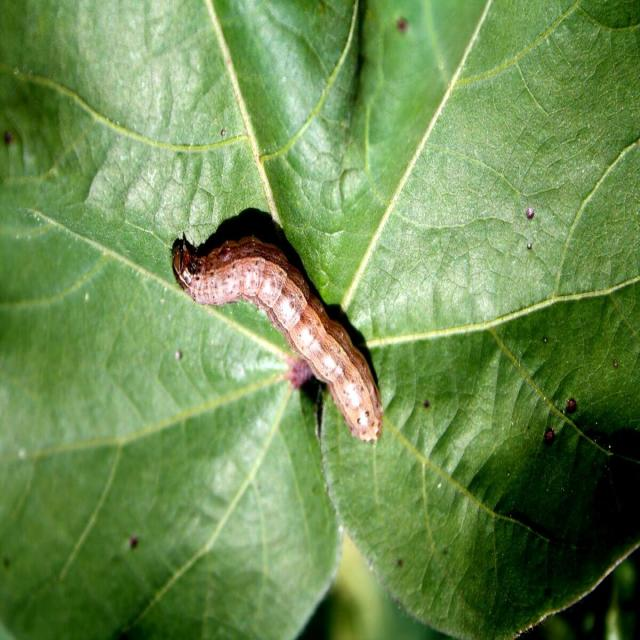Armyworm: (175, 187, 384, 476)
